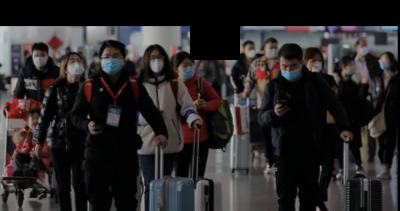with_mask: (99, 52, 121, 76), (65, 57, 84, 78), (279, 63, 300, 81), (179, 61, 195, 80), (148, 54, 163, 74), (308, 58, 322, 73), (31, 53, 46, 67), (266, 44, 278, 60), (378, 57, 388, 71), (344, 64, 355, 76), (358, 44, 368, 56), (245, 46, 255, 58)
without_mask: (27, 115, 39, 131)
